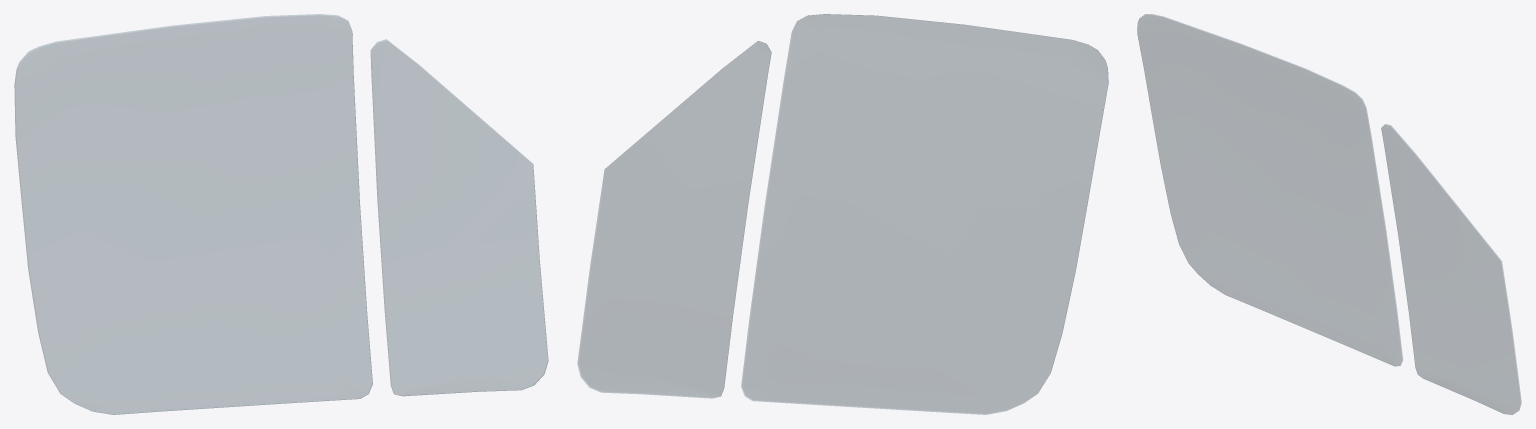
3 views of the same model, side by side, from view 1: azimuth 30°, elevation 25°; view 2: azimuth 150°, elevation 25°; view 3: azimuth 330°, elevation 25° (orthographic). The views are drawn at different scales.
Parts seen in each view (by area): view 1: SM_MercedesSprinter_Door_FL_Glass_Ext2; view 2: SM_MercedesSprinter_Door_FL_Glass_Ext2; view 3: SM_MercedesSprinter_Door_FL_Glass_Ext2.
Boxes of the visible parts, x1,y1,x2,y2 form: SM_MercedesSprinter_Door_FL_Glass_Ext2: (14, 14, 548, 414); SM_MercedesSprinter_Door_FL_Glass_Ext2: (577, 14, 1108, 414); SM_MercedesSprinter_Door_FL_Glass_Ext2: (1137, 14, 1521, 414).
Size of the model in its own units: 0.8766 by 0.7315 by 0.054.
